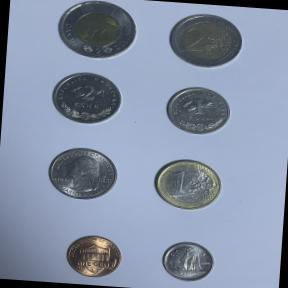coin: (161, 7, 249, 74), (50, 0, 142, 64), (146, 152, 228, 217), (44, 68, 128, 128), (43, 142, 122, 204), (60, 230, 128, 283), (156, 237, 220, 287)
